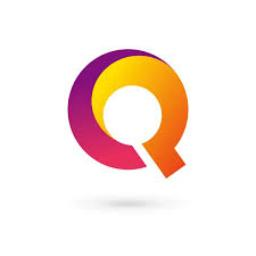q: (64, 44, 196, 184)
